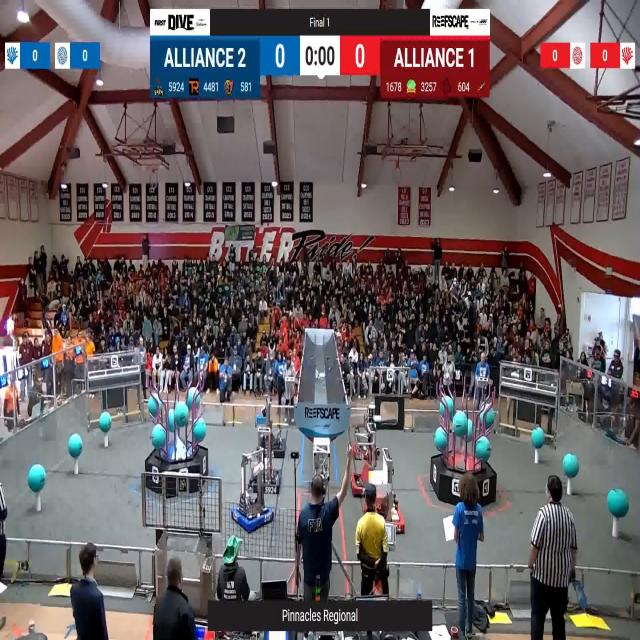scoreboard: (149, 34, 490, 98)
